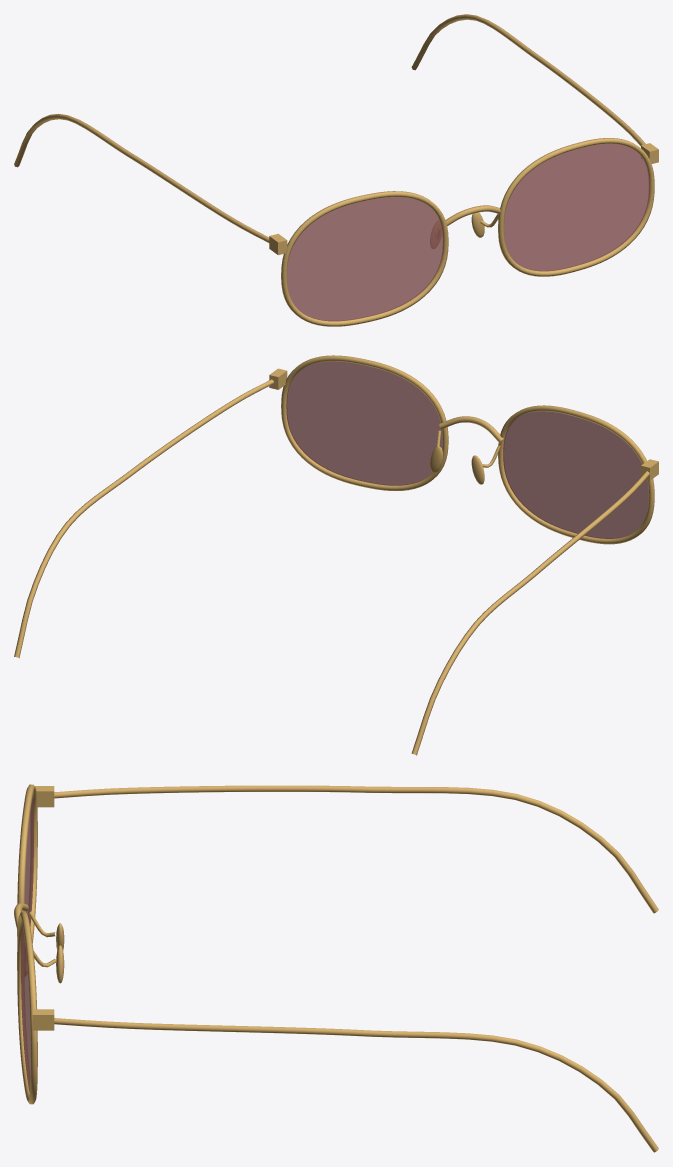
The model's file is NY-S08_Sol_Gold_Rose_lens.glb.
3 views of the same model, one above another, from view 1: azimuth 30°, elevation 25°; view 2: azimuth 150°, elevation 25°; view 3: azimuth 270°, elevation 25° (orthographic). The views are drawn at different scales.
Visible parts, largest first — view 1: Sol_Gold_Rose_lens_Lenses, Sol_Gold_Rose_lens_Metal; view 2: Sol_Gold_Rose_lens_Lenses, Sol_Gold_Rose_lens_Metal; view 3: Sol_Gold_Rose_lens_Metal, Sol_Gold_Rose_lens_Lenses.
Boxes of the visible parts, x1=… form: Sol_Gold_Rose_lens_Lenses: x1=287, y1=144, x2=649, y2=321; Sol_Gold_Rose_lens_Metal: x1=14, y1=14, x2=658, y2=326; Sol_Gold_Rose_lens_Lenses: x1=286, y1=361, x2=648, y2=538; Sol_Gold_Rose_lens_Metal: x1=14, y1=355, x2=658, y2=755; Sol_Gold_Rose_lens_Metal: x1=14, y1=784, x2=658, y2=1152; Sol_Gold_Rose_lens_Lenses: x1=21, y1=795, x2=33, y2=1091.
Size of the model in its own units: 0.1347 by 0.0421 by 0.1479.
